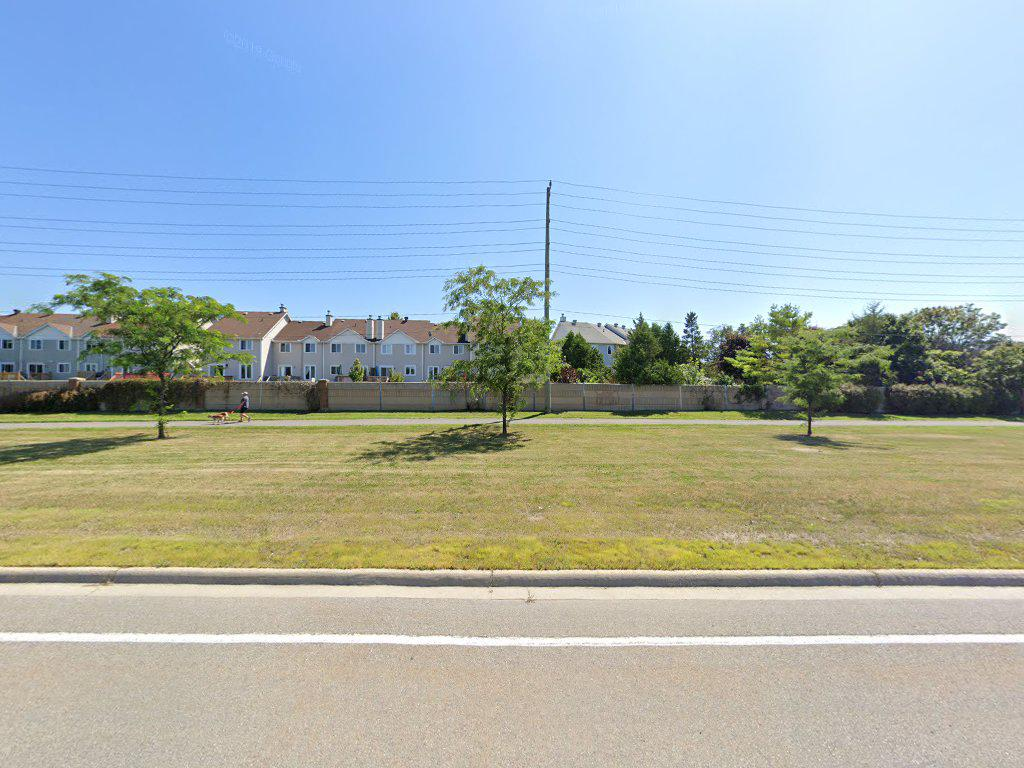trunk: (152, 372, 172, 439), (498, 386, 513, 447)
